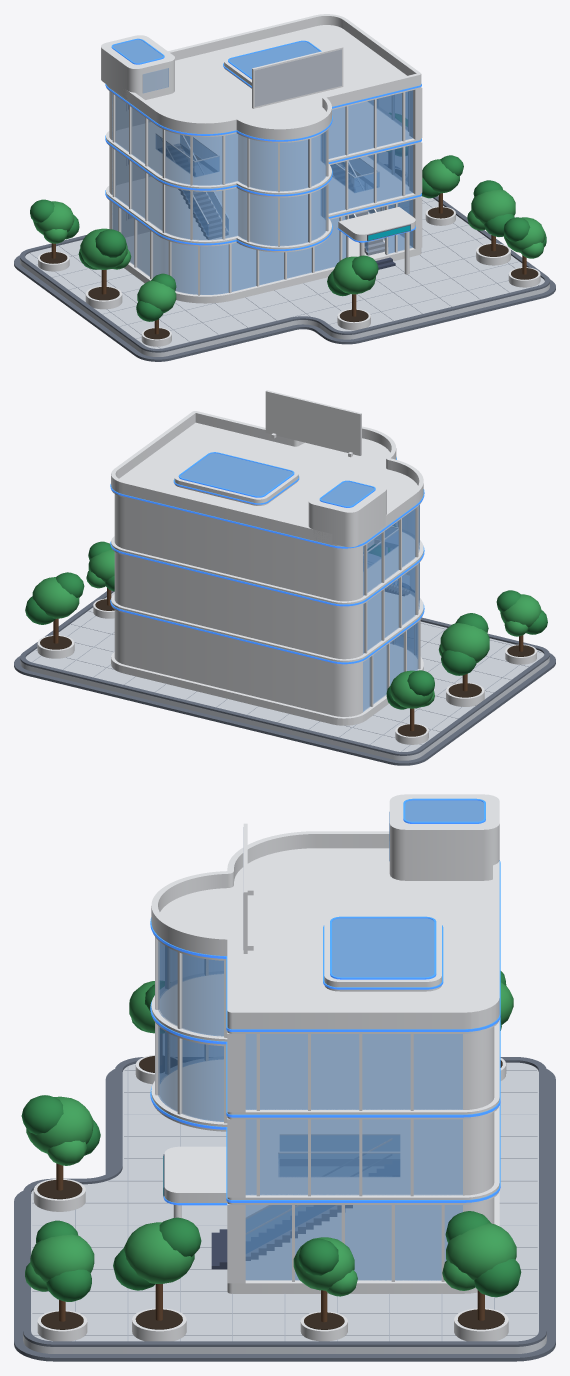
Rendered from storefront_v2.glb.
3 renders of one model, top to bottom at view 1: azimuth 30°, elevation 25°; view 2: azimuth 150°, elevation 25°; view 3: azimuth 270°, elevation 25°, orthographic. The views are drawn at different scales.
Visible parts, largest first — view 1: VISUAL, VISUAL_plaza, VISUAL_roof, DECOR, SLOT_billboard_01_placeholder, VISUAL_entrance; view 2: VISUAL, VISUAL_roof, VISUAL_plaza, DECOR, SLOT_billboard_01_placeholder; view 3: VISUAL, VISUAL_roof, VISUAL_plaza, DECOR, VISUAL_entrance.
Boxes of the visible parts, box(x1,y1,x2,y2) form: VISUAL: box(105, 87, 422, 303); VISUAL_plaza: box(14, 164, 555, 361); VISUAL_roof: box(101, 14, 421, 142); DECOR: box(30, 113, 546, 346); SLOT_billboard_01_placeholder: box(252, 46, 343, 108); VISUAL_entrance: box(337, 207, 415, 274); VISUAL: box(110, 494, 424, 725); VISUAL_roof: box(110, 411, 424, 549); VISUAL_plaza: box(14, 583, 555, 765); DECOR: box(25, 541, 547, 744); SLOT_billboard_01_placeholder: box(265, 390, 361, 455); VISUAL: box(150, 937, 500, 1293); VISUAL_roof: box(150, 794, 500, 1033); VISUAL_plaza: box(14, 1057, 555, 1361); DECOR: box(21, 971, 521, 1341); VISUAL_entrance: box(163, 1146, 227, 1269).
Size of what is drawn, in the model's own units: 26.7 by 15 by 20.7.
